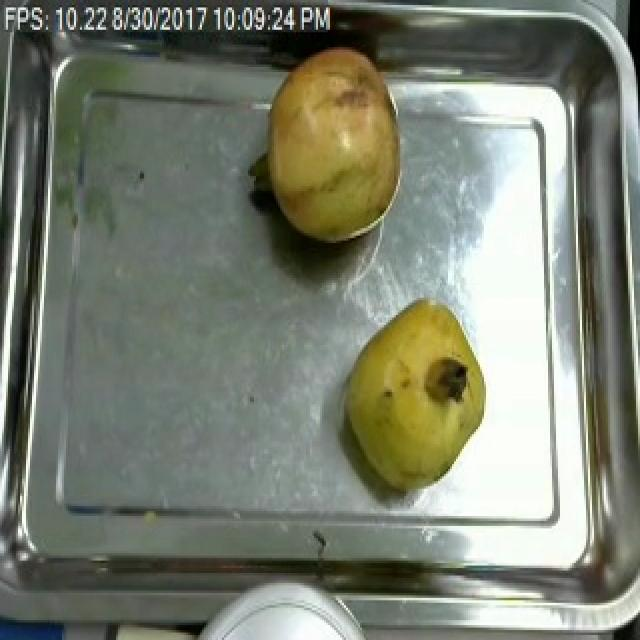fruit: (336, 287, 492, 503), (256, 39, 404, 250)
